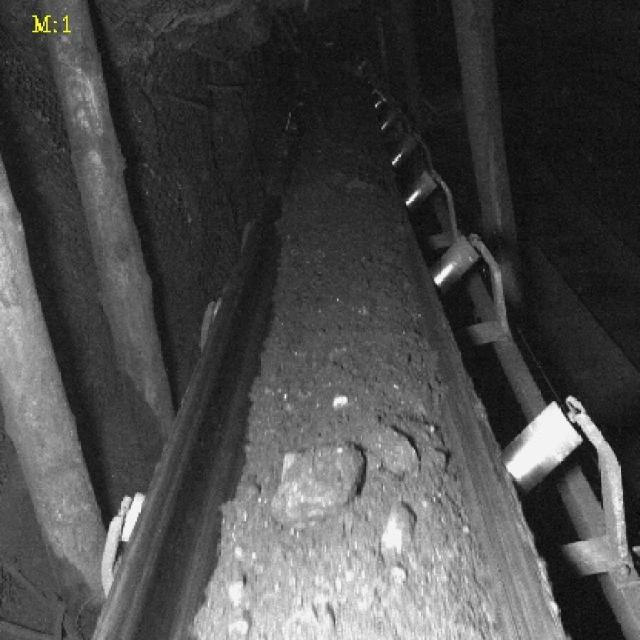large_sized_coal: (272, 443, 368, 528), (372, 424, 422, 478), (378, 504, 417, 556)
